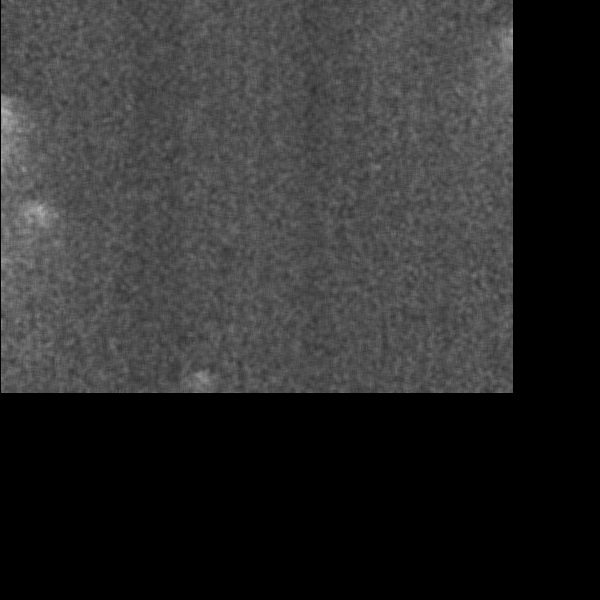spark: (433, 145, 499, 289), (434, 12, 479, 81), (277, 177, 295, 230)
